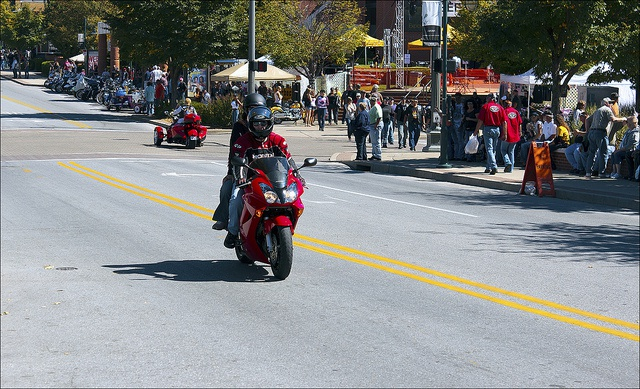non-vehicle: (221, 158, 302, 283), (153, 113, 202, 149), (270, 100, 305, 124), (95, 77, 114, 106), (106, 95, 123, 112)
